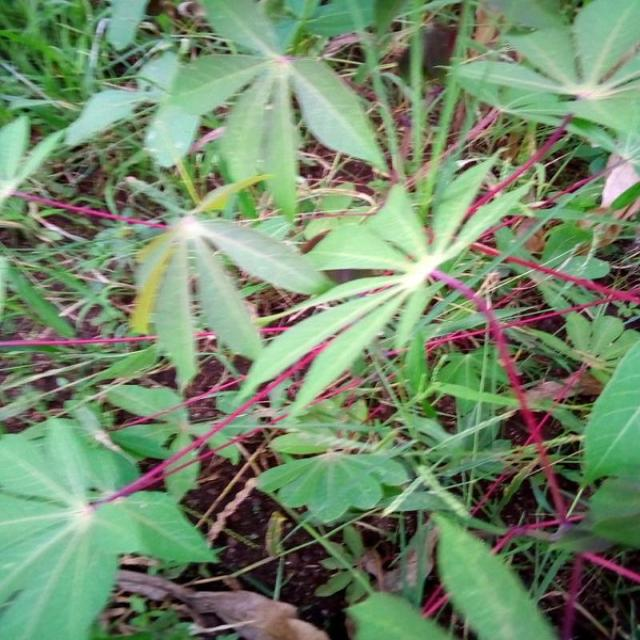cassava leaf: (145, 0, 388, 222), (0, 412, 220, 638)
